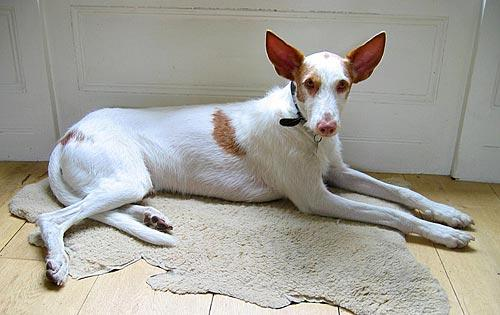Ibizan_hound: (33, 27, 474, 291)
